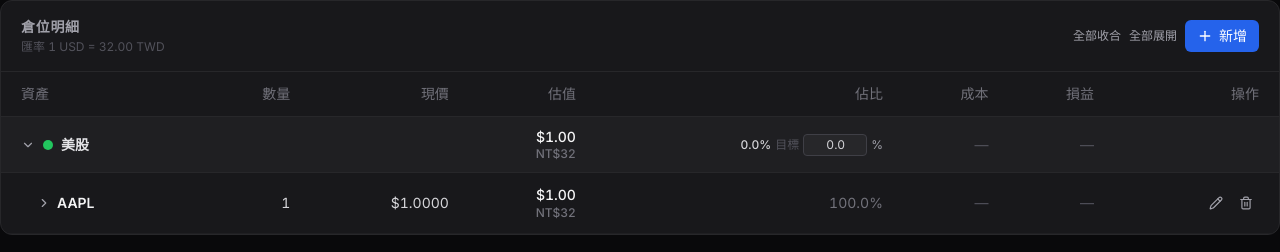
Scenario: PositionTable › 全部展開 shows all position rows
The width and height of the screenshot is (1280, 252).
Click the button "全部收合" at (1097, 36), box [1073,28,1121,44]
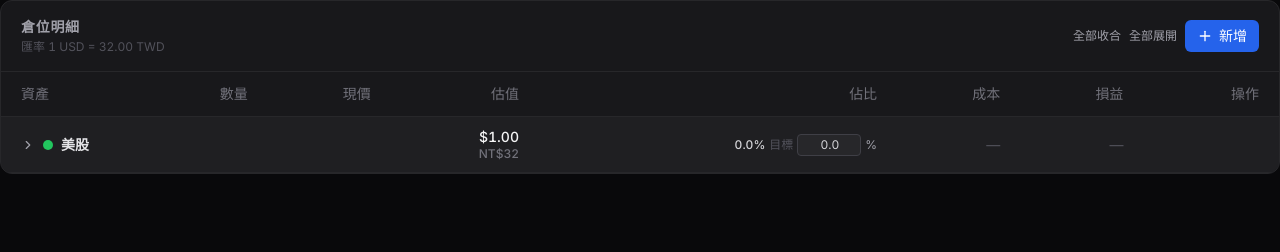
expect the text "AAPL" is gone: met
Click the button "全部展開" at (1153, 36), box [1129,28,1177,44]
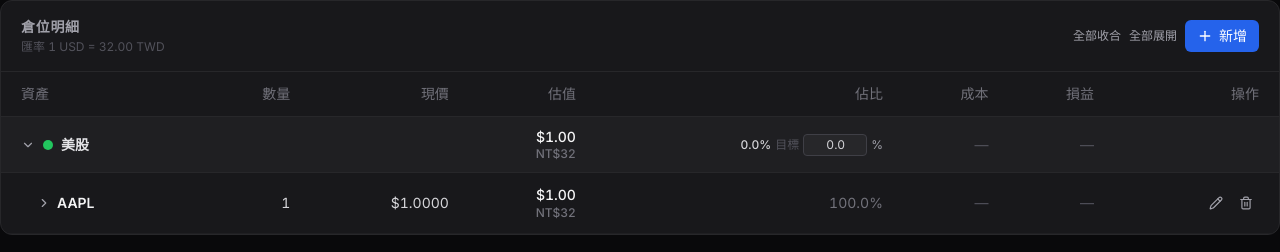
expect the text "AAPL" is shown: met, box [57,193,94,213]
